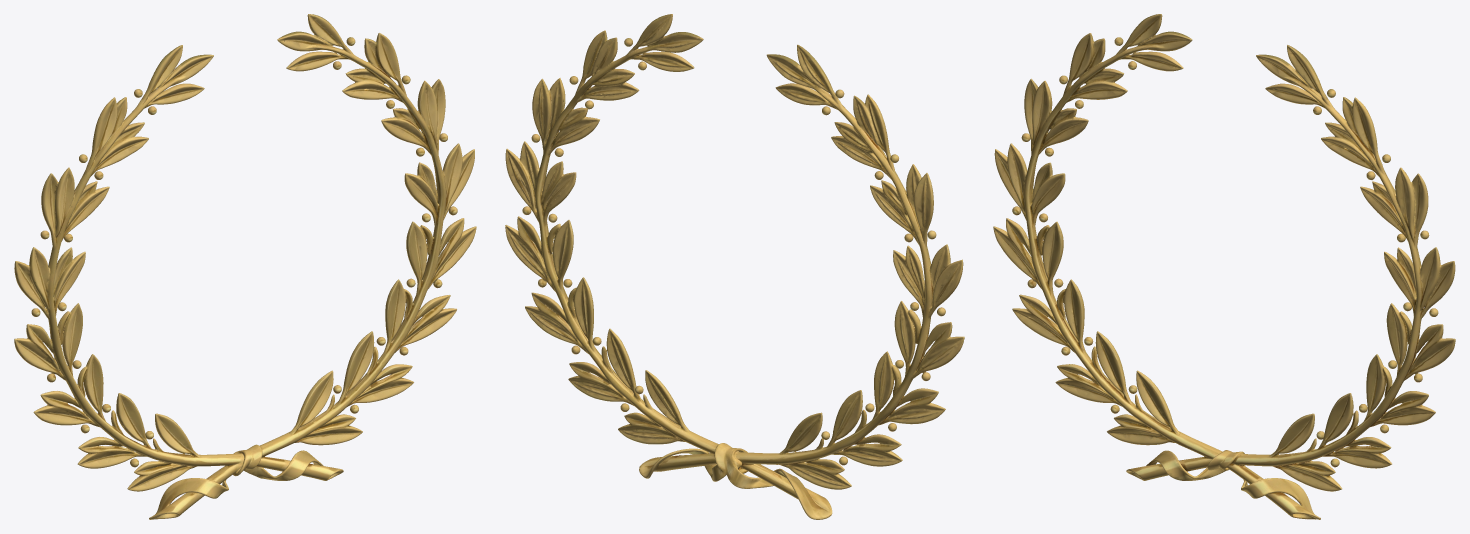
File: laurel-arch.glb
3 renders of one model, left to right at view 1: azimuth 30°, elevation 25°; view 2: azimuth 150°, elevation 25°; view 3: azimuth 330°, elevation 25°, orthographic.
Bounding box in the file's own units: 61564 × 59813 × 4682.
1 material, 1 textured.
